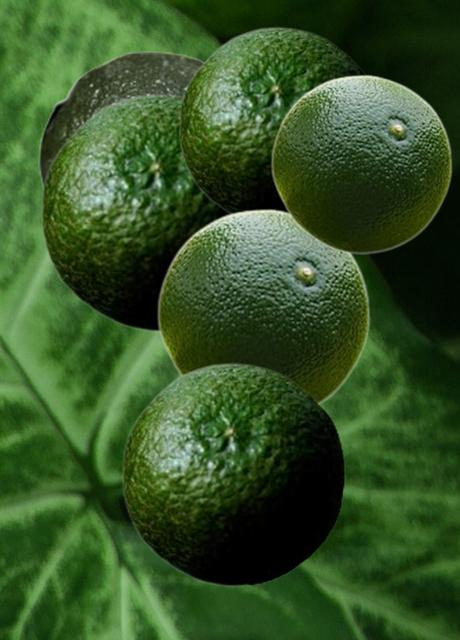calamansi: (121, 362, 344, 586), (40, 93, 226, 331), (156, 208, 370, 404), (178, 26, 368, 213), (270, 74, 452, 253), (38, 51, 204, 189)
